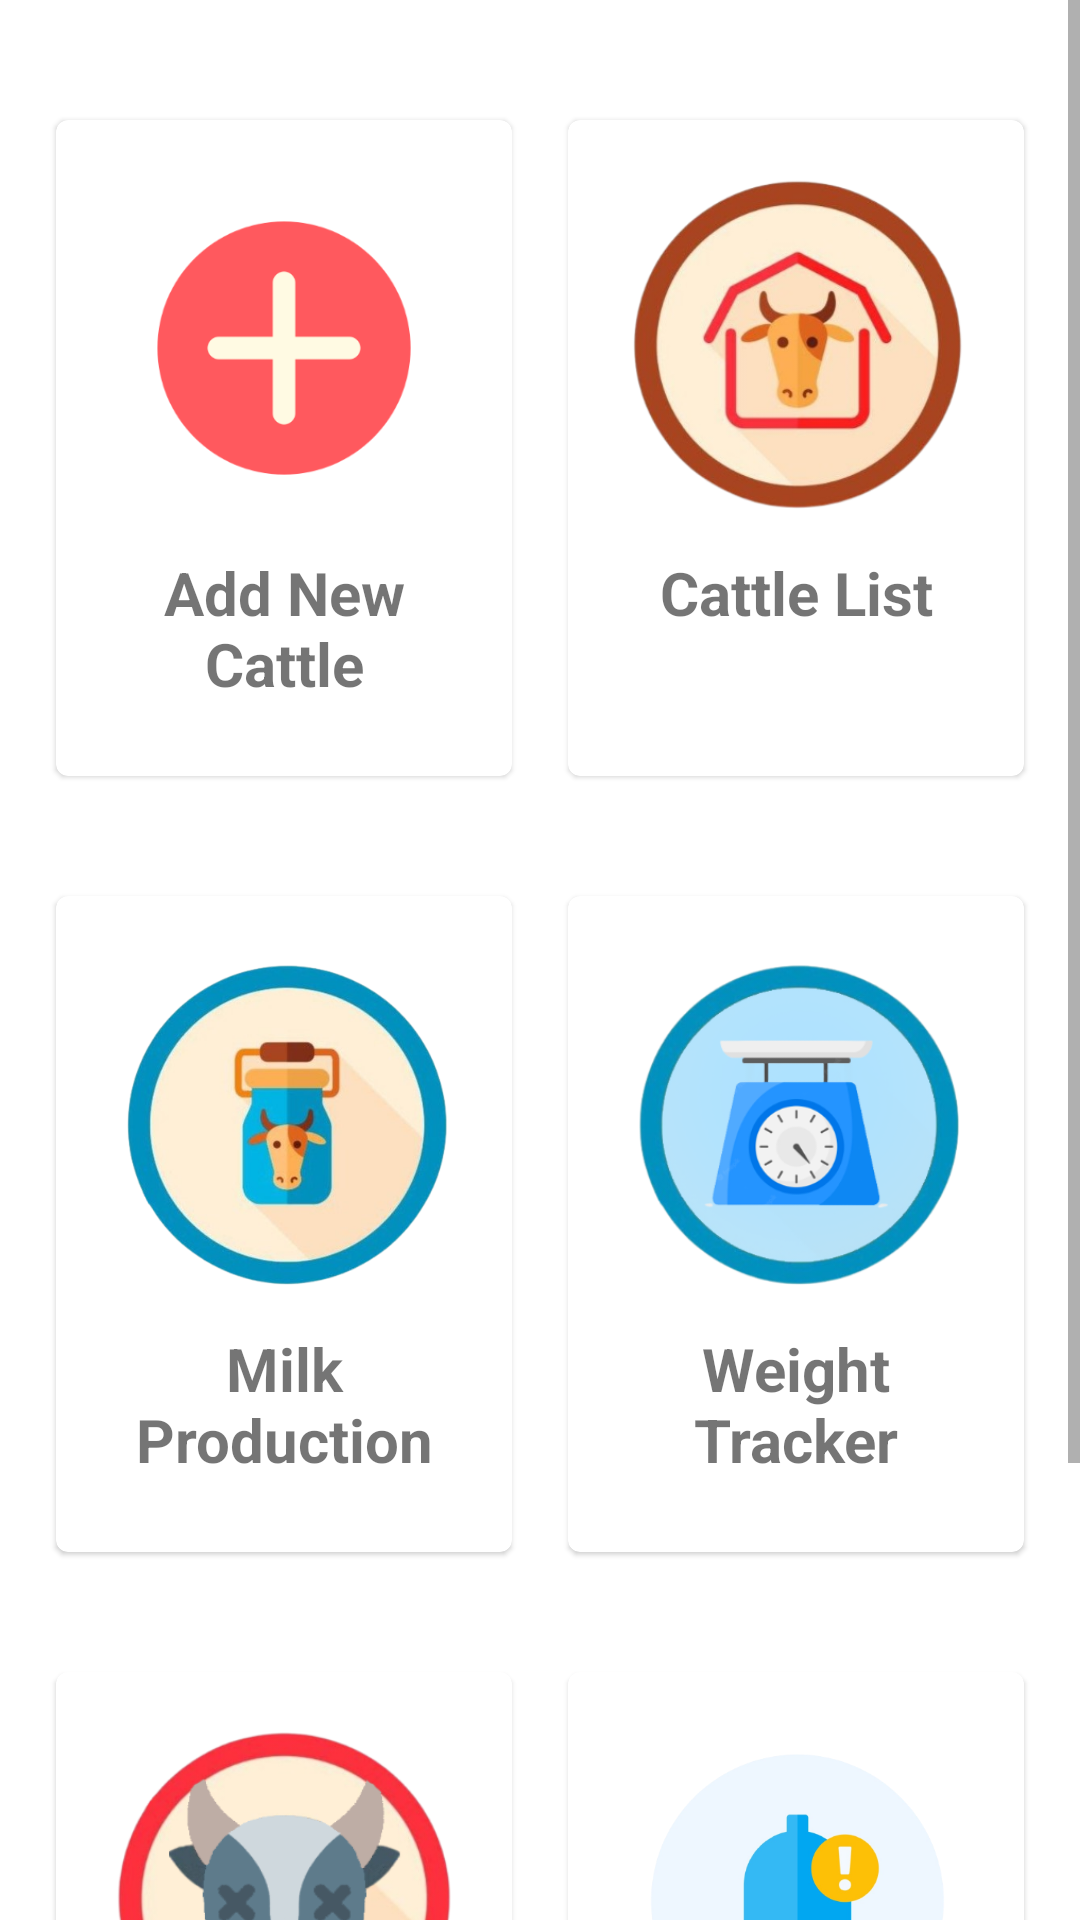

Point at icon controls on the screen. Image size 1080px×1920px, points as [x,y].
cattle info: [797,344]
